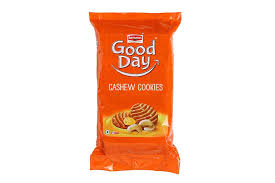gooday-medium: (86, 8, 183, 171)
